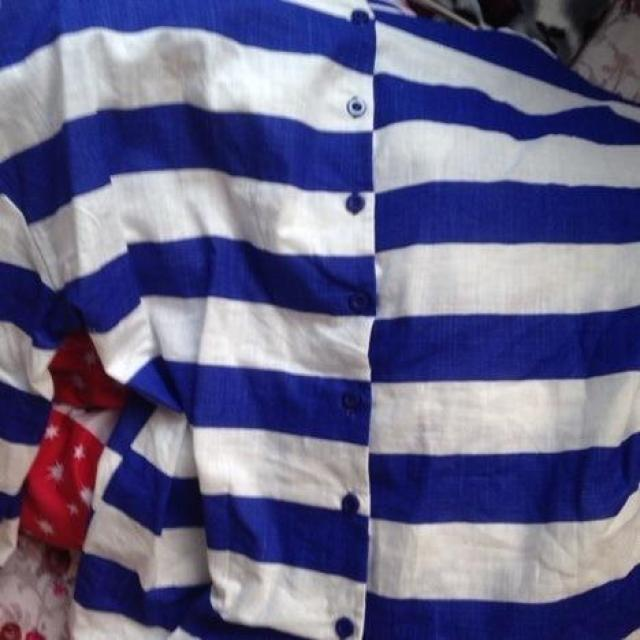long-sleeve-top: (47, 0, 607, 633)
